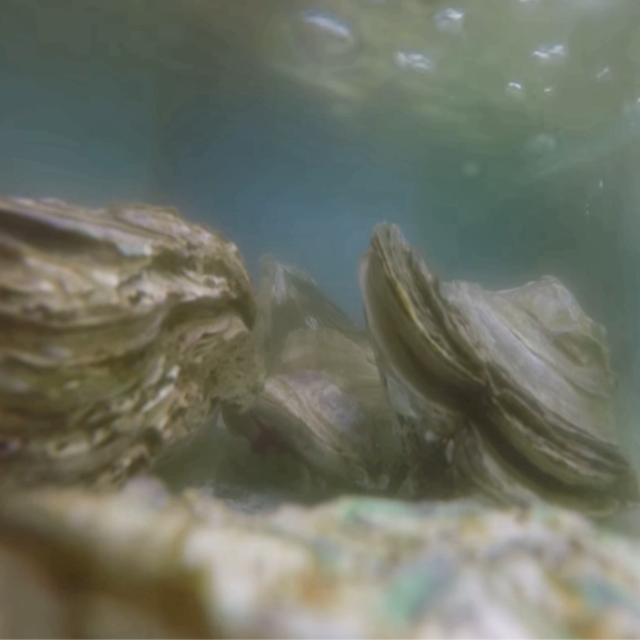Oyster-Closed: (0, 192, 259, 526), (256, 328, 419, 505)
Oyster-Indeterminate: (0, 474, 640, 640)
Oyster-Open: (358, 221, 640, 537)
